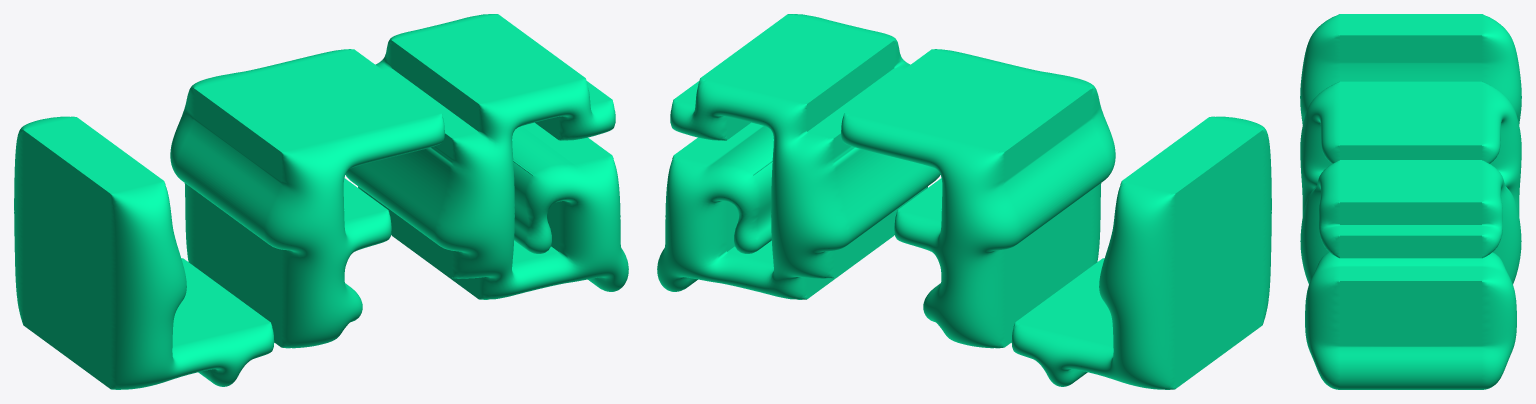
The model's file is LFG-Snot.gltf.
3 views of the same model, side by side, from view 1: azimuth 30°, elevation 25°; view 2: azimuth 150°, elevation 25°; view 3: azimuth 270°, elevation 25° (orthographic). The views are drawn at different scales.
Size of the model in its own units: 0.0577 by 0.0235 by 0.0265.
